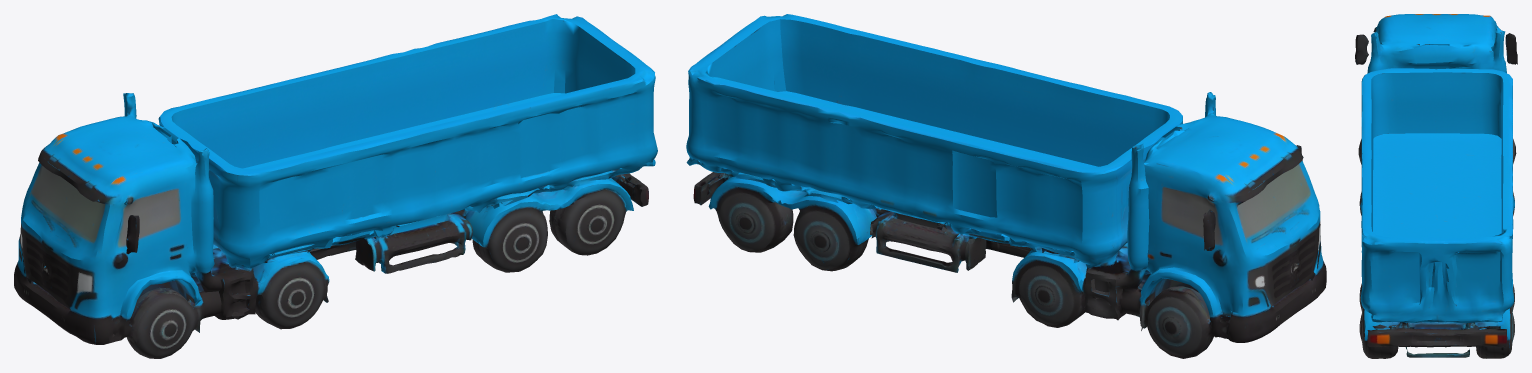
File: Meshy_AI_Scarlet_Sun_Hauler_0522205535_texture.fbx
3 renders of one model, left to right at view 1: azimuth 30°, elevation 25°; view 2: azimuth 150°, elevation 25°; view 3: azimuth 270°, elevation 25°, orthographic. The views are drawn at different scales.
Visible parts, largest first — view 1: Mesh0; view 2: Mesh0; view 3: Mesh0.
Part boxes in pixels (x1=…): Mesh0: x1=14, y1=14, x2=657, y2=358; Mesh0: x1=686, y1=14, x2=1326, y2=358; Mesh0: x1=1355, y1=14, x2=1517, y2=358.
Size of the model in its own units: 2.98 by 1 by 0.8732.
1 material, 1 textured.
